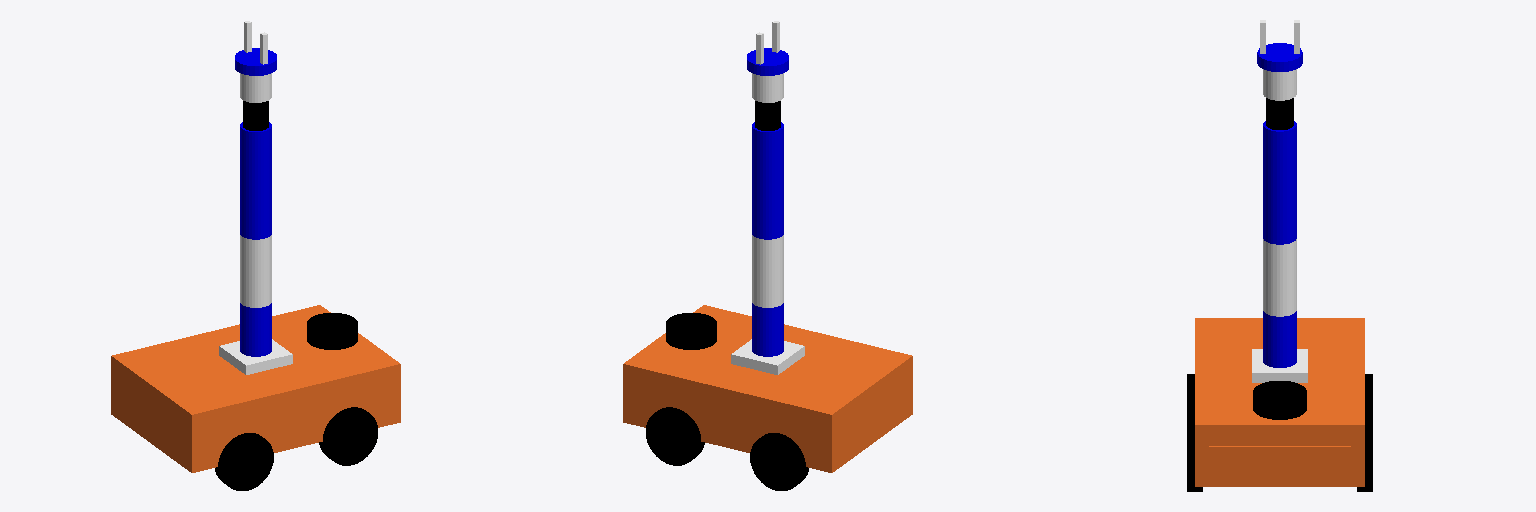
--- What the picture shows (computed from the rendered views, not written in the file) ---
3 views of the same robot in one strip: view 1: azimuth 30°, elevation 25°; view 2: azimuth 150°, elevation 25°; view 3: azimuth 270°, elevation 25° (orthographic).
Robot: dakebot — 19 links, 18 joints (6 revolute, 4 continuous, 1 prismatic, 7 fixed); root link base_footprint; default pose: all joints at 0.
Links seen in each view (by area): view 1: robot_base_link, link3, right_front_wheel, right_rear_wheel, link2, hokuyo, link1, base_link, link6, link5, link4; view 2: robot_base_link, link3, left_front_wheel, left_rear_wheel, link2, hokuyo, link1, base_link, link6, link5, link4; view 3: robot_base_link, link3, camera, link2, hokuyo, link1, base_link, link6, link5, link4, left_front_wheel, right_front_wheel.
Boxes of the visible links, x1,y1,x2,y2 form: robot_base_link: (111, 305, 400, 472); link3: (240, 122, 271, 239); right_front_wheel: (319, 407, 377, 465); right_rear_wheel: (215, 433, 273, 490); link2: (240, 235, 271, 307); hokuyo: (307, 313, 357, 349); link1: (240, 303, 271, 356); base_link: (219, 339, 292, 374); link6: (235, 48, 276, 75); link5: (240, 73, 271, 102); link4: (243, 101, 268, 130); robot_base_link: (623, 305, 912, 472); link3: (752, 122, 783, 239); left_front_wheel: (646, 407, 704, 465); left_rear_wheel: (750, 433, 808, 490); link2: (752, 235, 783, 307); hokuyo: (666, 313, 716, 349); link1: (752, 303, 783, 356); base_link: (731, 339, 804, 374); link6: (747, 48, 788, 75); link5: (752, 73, 783, 102); link4: (755, 101, 780, 130); robot_base_link: (1195, 318, 1364, 486); link3: (1263, 121, 1296, 244); camera: (1209, 446, 1350, 466); link2: (1263, 239, 1296, 316); hokuyo: (1253, 381, 1306, 419); link1: (1263, 311, 1296, 367); base_link: (1252, 349, 1307, 382); link6: (1257, 43, 1302, 71); link5: (1263, 69, 1296, 100); link4: (1266, 98, 1293, 129); left_front_wheel: (1357, 428, 1372, 491); right_front_wheel: (1187, 428, 1202, 491).
Bounding box of the posed robot: 0.453 × 0.328 × 0.857 m (x, y, z).
Geometry: primitives only (box / cylinder / sphere), no mesh files.

URDF robot description (dakebot):
<?xml version="1.0" ?>
<!-- =================================================================================== -->
<!-- |    This document was autogenerated by xacro from [local-path]/catkin_ws/src/robot_description/urdf/robot.urdf.xacro | -->
<!-- |    EDITING THIS FILE BY HAND IS NOT RECOMMENDED                                 | -->
<!-- =================================================================================== -->
<robot name="dakebot">
    <material name="black">
        <color rgba="0.0 0.0 0.0 1.0" />
    </material>
    <!--base_footprint_link-->
    <link name="base_footprint">
        <visual>
            <geometry>
                <sphere radius="0.001" />
            </geometry>
        </visual>
    </link>
    <!--robot_base_link-->
    <link name="robot_base_link">
        <visual>
            <geometry>
                <box size="0.448 0.3 0.12" />
            </geometry>
            <origin rpy="0 0 0" xyz="0 0 0" />
            <material name="yellow">
                <color rgba="1.0 0.5 0.2 1.0" />
            </material>
        </visual>
        <collision>
            <geometry>
                <box size="0.448 0.3 0.12" />
            </geometry>
            <origin rpy="0 0 0" xyz="0 0 0" />
        </collision>
        <inertial>
            <mass value="5" />
            <inertia ixx="0.08962666666666667" ixy="0" ixz="0" iyy="0.12112666666666667" iyz="0" izz="0.043500000000000004" />
            <origin xyz="0 0 0" rpy="0 0 0" />
        </inertial>
    </link>
    <gazebo reference="robot_base_link">
        <material>Gazebo/Yellow</material>
        <plugin name="gazebo_ros_control">
            <robotNamespace>/</robotNamespace>
        </plugin>
    </gazebo>
    <!--base_link joint-->
    <joint name="link2footprint" type="fixed">
        <parent link="base_footprint" />
        <child link="robot_base_link" />
        <origin xyz="0 0 0.11599999999999999" />
    </joint>
    <link name="left_front_wheel">
        <visual>
            <geometry>
                <cylinder length="0.028" radius="0.056" />
            </geometry>
            <origin rpy="1.5705 0.0 0.0" xyz="0.0 0.0 0.0" />
            <material name="black" />
        </visual>
        <collision>
            <geometry>
                <cylinder length="0.028" radius="0.056" />
            </geometry>
            <surface>
                <friction>
                    <fdir1>1 0 0</fdir1>
                    <kp>1000000.0</kp>
                    <!-- kp and kd for rubber -->
                    <kd>100.0</kd>
                    <mu>1</mu>
                    <mu2>1</mu2>
                    <slip1>0.5</slip1>
                    <slip2>0</slip2>
                </friction>
            </surface>
            <origin rpy="1.5705 0.0 0.0" xyz="0.0 0.0 0.0" />
        </collision>
        <inertial>
            <mass value="2" />
            <inertia ixx="0.001698666666666667" ixy="0" ixz="0" iyy="0.001698666666666667" iyz="0" izz="0.0031360000000000003" />
            <origin xyz="0 0 0" rpy="0 0 0" />
        </inertial>
    </link>
    <gazebo reference="left_front_wheel">
        <material>Gazebo/Red</material>
    </gazebo>
    <!--wheels_joint-->
    <joint name="left_front_wheel2robot_base_link" type="continuous">
        <parent link="robot_base_link" />
        <child link="left_front_wheel" />
        <origin xyz="0.112 0.15 -0.06" />
        <axis xyz="0 1 0" />
    </joint>
    <link name="right_front_wheel">
        <visual>
            <geometry>
                <cylinder length="0.028" radius="0.056" />
            </geometry>
            <origin rpy="1.5705 0.0 0.0" xyz="0.0 0.0 0.0" />
            <material name="black" />
        </visual>
        <collision>
            <geometry>
                <cylinder length="0.028" radius="0.056" />
            </geometry>
            <surface>
                <friction>
                    <fdir1>1 0 0</fdir1>
                    <kp>1000000.0</kp>
                    <!-- kp and kd for rubber -->
                    <kd>100.0</kd>
                    <mu>1</mu>
                    <mu2>1</mu2>
                    <slip1>0.5</slip1>
                    <slip2>0</slip2>
                </friction>
            </surface>
            <origin rpy="1.5705 0.0 0.0" xyz="0.0 0.0 0.0" />
        </collision>
        <inertial>
            <mass value="2" />
            <inertia ixx="0.001698666666666667" ixy="0" ixz="0" iyy="0.001698666666666667" iyz="0" izz="0.0031360000000000003" />
            <origin xyz="0 0 0" rpy="0 0 0" />
        </inertial>
    </link>
    <gazebo reference="right_front_wheel">
        <material>Gazebo/Red</material>
    </gazebo>
    <!--wheels_joint-->
    <joint name="right_front_wheel2robot_base_link" type="continuous">
        <parent link="robot_base_link" />
        <child link="right_front_wheel" />
        <origin xyz="0.112 -0.15 -0.06" />
        <axis xyz="0 1 0" />
    </joint>
    <link name="left_rear_wheel">
        <visual>
            <geometry>
                <cylinder length="0.028" radius="0.056" />
            </geometry>
            <origin rpy="1.5705 0.0 0.0" xyz="0.0 0.0 0.0" />
            <material name="black" />
        </visual>
        <collision>
            <geometry>
                <cylinder length="0.028" radius="0.056" />
            </geometry>
            <surface>
                <friction>
                    <fdir1>1 0 0</fdir1>
                    <kp>1000000.0</kp>
                    <!-- kp and kd for rubber -->
                    <kd>100.0</kd>
                    <mu>1</mu>
                    <mu2>1</mu2>
                    <slip1>0.5</slip1>
                    <slip2>0</slip2>
                </friction>
            </surface>
            <origin rpy="1.5705 0.0 0.0" xyz="0.0 0.0 0.0" />
        </collision>
        <inertial>
            <mass value="2" />
            <inertia ixx="0.001698666666666667" ixy="0" ixz="0" iyy="0.001698666666666667" iyz="0" izz="0.0031360000000000003" />
            <origin xyz="0 0 0" rpy="0 0 0" />
        </inertial>
    </link>
    <gazebo reference="left_rear_wheel">
        <material>Gazebo/Red</material>
    </gazebo>
    <!--wheels_joint-->
    <joint name="left_rear_wheel2robot_base_link" type="continuous">
        <parent link="robot_base_link" />
        <child link="left_rear_wheel" />
        <origin xyz="-0.112 0.15 -0.06" />
        <axis xyz="0 1 0" />
    </joint>
    <link name="right_rear_wheel">
        <visual>
            <geometry>
                <cylinder length="0.028" radius="0.056" />
            </geometry>
            <origin rpy="1.5705 0.0 0.0" xyz="0.0 0.0 0.0" />
            <material name="black" />
        </visual>
        <collision>
            <geometry>
                <cylinder length="0.028" radius="0.056" />
            </geometry>
            <surface>
                <friction>
                    <fdir1>1 0 0</fdir1>
                    <kp>1000000.0</kp>
                    <!-- kp and kd for rubber -->
                    <kd>100.0</kd>
                    <mu>1</mu>
                    <mu2>1</mu2>
                    <slip1>0.5</slip1>
                    <slip2>0</slip2>
                </friction>
            </surface>
            <origin rpy="1.5705 0.0 0.0" xyz="0.0 0.0 0.0" />
        </collision>
        <inertial>
            <mass value="2" />
            <inertia ixx="0.001698666666666667" ixy="0" ixz="0" iyy="0.001698666666666667" iyz="0" izz="0.0031360000000000003" />
            <origin xyz="0 0 0" rpy="0 0 0" />
        </inertial>
    </link>
    <gazebo reference="right_rear_wheel">
        <material>Gazebo/Red</material>
    </gazebo>
    <!--wheels_joint-->
    <joint name="right_rear_wheel2robot_base_link" type="continuous">
        <parent link="robot_base_link" />
        <child link="right_rear_wheel" />
        <origin xyz="-0.112 -0.15 -0.06" />
        <axis xyz="0 1 0" />
    </joint>
    <link name="camera">
        <visual>
            <origin rpy="0.0 0.0 0.0" xyz="0.0 0.0 0.0" />
            <geometry>
                <box size="0.01 0.25 0.04" />
            </geometry>
            <material name="yellow">
                <color rgba="1.0 0.5 0.2 1.0" />
            </material>
        </visual>
        <collision>
            <origin rpy="0.0 0.0 0.0" xyz="0.0 0.0 0.0" />
            <geometry>
                <box size="0.01 0.25 0.04" />
            </geometry>
        </collision>
        <inertial>
            <mass value="1.0" />
            <inertia ixx="0.00014166666666666668" ixy="0" ixz="0" iyy="0.005216666666666667" iyz="0" izz="0.005341666666666667" />
            <origin xyz="0 0 0" rpy="0 0 0" />
        </inertial>
    </link>
    <joint name="camera2base" type="fixed">
        <origin rpy="0.0 0.0 0.0" xyz="0.224 0.0 0.0" />
        <parent link="robot_base_link" />
        <child link="camera" />
        <axis xyz="0.0 0.0 0.0" />
        <limit effort="0.0" lower="0.0" upper="0.0" velocity="0.0" />
    </joint>
    <link name="hokuyo">
        <visual>
            <origin rpy="0.0 0.0 0.0" xyz="0.0 0.0 0.0" />
            <geometry>
                <cylinder length="0.032" radius="0.048" />
            </geometry>
            <material name="black" />
        </visual>
        <collision>
            <origin rpy="0.0 0.0 0.0" xyz="0.0 0.0 0.0" />
            <geometry>
                <cylinder length="0.032" radius="0.048" />
            </geometry>
        </collision>
        <inertial>
            <mass value="1.0" />
            <inertia ixx="0.0006613333333333333" ixy="0" ixz="0" iyy="0.0006613333333333333" iyz="0" izz="0.001152" />
            <origin xyz="0 0 0" rpy="0 0 0" />
        </inertial>
    </link>
    <joint name="hokuyo2base" type="fixed">
        <origin rpy="0.0 0.0 0.0" xyz="0.164 0.0 0.08" />
        <parent link="robot_base_link" />
        <child link="hokuyo" />
        <axis xyz="0.0 0.0 0.0" />
        <limit effort="0.0" lower="0.0" upper="0.0" velocity="0.0" />
    </joint>
    <!-- gazebo四轮差速插件 -->
    <gazebo>
        <plugin filename="libgazebo_ros_skid_steer_drive.so" name="skid_steer_drive_controller">
            <updateRate>50</updateRate>
            <robotNamespace>/</robotNamespace>
            <publishOdomTF>true</publishOdomTF>
            <publishWheelTF>false</publishWheelTF>
            <publishTf>1</publishTf>
            <publishWheelJointState>false</publishWheelJointState>
            <leftFrontJoint>left_front_wheel2robot_base_link</leftFrontJoint>
            <rightFrontJoint>right_front_wheel2robot_base_link</rightFrontJoint>
            <leftRearJoint>left_rear_wheel2robot_base_link</leftRearJoint>
            <rightRearJoint>right_rear_wheel2robot_base_link</rightRearJoint>
            <wheelSeparation>0.3</wheelSeparation>
            <wheelDiameter>0.112</wheelDiameter>
            <robotBaseFrame>base_footprint</robotBaseFrame>
            <torque>700</torque>
            <commandTopic>cmd_vel</commandTopic>
            <broadcastTF>true</broadcastTF>
            <odometryFrame>odom</odometryFrame>
            <odometryTopic>odom</odometryTopic>
            <covariance_x>0.000100</covariance_x>
            <covariance_y>0.000100</covariance_y>
            <covariance_yaw>0.010000</covariance_yaw>
        </plugin>
    </gazebo>
    <!-- <xacro:include filename="robot_camera.urdf.xacro"/>
  <xacro:include filename="robot_kinetic.urdf.xacro"/>
  <xacro:include filename="robot_laser.urdf.xacro"/> -->
    <!-- Defining the colors used in this robot -->
    <material name="Black">
        <color rgba="0 0 0 1" />
    </material>
    <material name="White">
        <color rgba="1 1 1 1" />
    </material>
    <material name="Blue">
        <color rgba="0 0 1 1" />
    </material>
    <material name="Red">
        <color rgba="1 0 0 1" />
    </material>
    <!-- ///////////////////////////////////////   bottom_joint   ////////////////////////////////////////// -->
    <joint name="bottom_joint" type="fixed">
        <origin rpy="0 0 0" xyz="0 0 0" />
        <parent link="base_link" />
        <child link="bottom_link" />
    </joint>
    <link name="bottom_link">
        <visual>
            <origin rpy="0 0 0" xyz=" 0 0 -0.02" />
            <geometry>
                <box size="0.1 0.1 0.01" />
            </geometry>
            <material name="Black" />
        </visual>
        <collision>
            <origin rpy="0 0 0" xyz=" 0 0 -0.02" />
            <geometry>
                <box size="0.1 0.1 0.01" />
            </geometry>
        </collision>
        <inertial>
            <mass value="0.1" />
            <inertia ixx="1.0" ixy="0.0" ixz="0.0" iyy="0.5" iyz="0.0" izz="1.0" />
            <origin xyz="0 0 0" rpy="0 0 0" />
        </inertial>
    </link>
    <!-- /////////////////////////////////////   BASE LINK    ////////////////////////////////////////////// -->
    <link name="base_link">
        <visual>
            <origin rpy="0 0 0" xyz="0 0 0" />
            <geometry>
                <box size="0.1 0.1 0.04" />
            </geometry>
            <material name="White" />
        </visual>
        <collision>
            <origin rpy="0 0 0" xyz="0 0 0" />
            <geometry>
                <box size="0.1 0.1 0.04" />
            </geometry>
        </collision>
        <!--<xacro:inertial_matrix mass="1"/>-->
        <inertial>
            <mass value="0.1" />
            <origin xyz="0 0 0" rpy="0 0 0" />
            <inertia ixx="0.03" iyy="0.03" izz="0.03" ixy="0.0" ixz="0.0" iyz="0.0" />
        </inertial>
    </link>
    <joint name="joint1" type="revolute">
        <parent link="base_link" />
        <child link="link1" />
        <origin rpy="0 1.570795 0" xyz="0 0 0.02" />
        <axis xyz="-1 0 0" />
        <limit effort="300" lower="-2.96" upper="2.96" velocity="1" />
        <dynamics damping="50" friction="1" />
    </joint>
    <!-- /////////////////////////////////////   LINK1  ////////////////////////////////////////////// -->
    <link name="link1">
        <visual>
            <origin rpy="0 1.570795 0" xyz="-0.05 0 0" />
            <geometry>
                <cylinder length="0.1" radius="0.03" />
            </geometry>
            <material name="Blue" />
        </visual>
        <collision>
            <origin rpy="0 1.570795 0" xyz="-0.05 0 0" />
            <geometry>
                <cylinder length="0.1" radius="0.03" />
            </geometry>
        </collision>
        <inertial>
            <mass value="0.1" />
            <inertia ixx="1.0" ixy="0.0" ixz="0.0" iyy="0.5" iyz="0.0" izz="1.0" />
            <origin xyz="0 0 0" rpy="0 0 0" />
        </inertial>
    </link>
    <joint name="joint2" type="revolute">
        <parent link="link1" />
        <child link="link2" />
        <origin rpy="-1.570795 0 1.570795" xyz="-0.1 0 0.0" />
        <axis xyz="1 0 0" />
        <limit effort="300" lower="-2.35" upper="2.35" velocity="1" />
        <dynamics damping="50" friction="1" />
    </joint>
    <!-- ///////////////////////////////////////   LINK2  ////////////////////////////////////////////// -->
    <link name="link2">
        <visual>
            <origin rpy="0 0 0" xyz="0 0 0.07" />
            <geometry>
                <cylinder length="0.14" radius="0.03" />
            </geometry>
            <material name="White" />
        </visual>
        <collision>
            <origin rpy="0 0 0" xyz="0 0 0.07" />
            <geometry>
                <cylinder length="0.14" radius="0.03" />
            </geometry>
        </collision>
        <inertial>
            <mass value="0.1" />
            <inertia ixx="1.0" ixy="0.0" ixz="0.0" iyy="0.5" iyz="0.0" izz="1.0" />
            <origin xyz="0 0 0" rpy="0 0 0" />
        </inertial>
    </link>
    <joint name="joint3" type="revolute">
        <parent link="link2" />
        <child link="link3" />
        <origin rpy="0 3.14159 0" xyz="0 0 0.14" />
        <axis xyz="-1 0 0" />
        <limit effort="300" lower="-2.62" upper="2.62" velocity="1" />
        <dynamics damping="50" friction="1" />
    </joint>
    <!-- /////////////////////////////////   LINK3  ///////////////////////////////////////////////////// -->
    <link name="link3">
        <visual>
            <origin rpy="0 0 0" xyz="0 0 -0.11" />
            <geometry>
                <cylinder length="0.22" radius="0.03" />
            </geometry>
            <material name="Blue" />
        </visual>
        <collision>
            <origin rpy="0 0 0" xyz="0 0 -0.11" />
            <geometry>
                <cylinder length="0.22" radius="0.03" />
            </geometry>
        </collision>
        <inertial>
            <mass value="0.1" />
            <inertia ixx="1.0" ixy="0.0" ixz="0.0" iyy="0.5" iyz="0.0" izz="1.0" />
            <origin xyz="0 0 0" rpy="0 0 0" />
        </inertial>
    </link>
    <joint name="joint4" type="revolute">
        <parent link="link3" />
        <child link="link4" />
        <origin rpy="0 1.570795 3.14159" xyz="0.0 0.0 -0.22" />
        <axis xyz="1 0 0" />
        <limit effort="300" lower="-2.62" upper="2.62" velocity="1" />
        <dynamics damping="50" friction="1" />
    </joint>
    <!-- ///////////////////////////////////   LINK4  //////////////////////////////////////////////// -->
    <link name="link4">
        <visual>
            <origin rpy="0 1.570795 0" xyz="0.03 0 0" />
            <geometry>
                <cylinder length="0.06" radius="0.025" />
            </geometry>
            <material name="Black" />
        </visual>
        <collision>
            <origin rpy="0 1.570795 0" xyz="0.03 0 0" />
            <geometry>
                <cylinder length="0.06" radius="0.025" />
            </geometry>
        </collision>
        <inertial>
            <mass value="0.1" />
            <inertia ixx="1.0" ixy="0.0" ixz="0.0" iyy="0.5" iyz="0.0" izz="1.0" />
            <origin xyz="0 0 0" rpy="0 0 0" />
        </inertial>
    </link>
    <joint name="joint5" type="revolute">
        <parent link="link4" />
        <child link="link5" />
        <origin rpy="0 1.570795 0" xyz="0.06 0.0 0.0" />
        <axis xyz="1 0 0" />
        <limit effort="300" lower="-2.62" upper="2.62" velocity="1" />
        <dynamics damping="50" friction="1" />
    </joint>
    <!-- //////////////////////////////////   LINK5  ///////////////////////////////////////////////// -->
    <link name="link5">
        <visual>
            <origin rpy="0 0 0" xyz="0 0 0.03" />
            <geometry>
                <cylinder length="0.06" radius="0.03" />
            </geometry>
            <material name="White" />
        </visual>
        <collision>
            <origin rpy="0 0 0" xyz="0 0 0.03 " />
            <geometry>
                <cylinder length="0.06" radius="0.03" />
            </geometry>
        </collision>
        <inertial>
            <mass value="0.1" />
            <inertia ixx="1.0" ixy="0.0" ixz="0.0" iyy="0.5" iyz="0.0" izz="1.0" />
            <origin xyz="0 0 0" rpy="0 0 0" />
        </inertial>
    </link>
    <joint name="joint6" type="revolute">
        <parent link="link5" />
        <child link="link6" />
        <origin rpy="4.712384999999999 -1.570795 0" xyz="0 0 0.06" />
        <axis xyz="1 0 0" />
        <limit effort="300" lower="-6.28" upper="6.28" velocity="1" />
        <dynamics damping="50" friction="1" />
    </joint>
    <!-- ////////////////////////////////   LINK6  ///////////////////////////////////////////////// -->
    <link name="link6">
        <visual>
            <origin rpy="0 1.570795 0" xyz="0.01 0 0 " />
            <geometry>
                <cylinder length="0.02" radius="0.04" />
            </geometry>
            <material name="Blue" />
        </visual>
        <collision>
            <origin rpy="0 1.570795 0" xyz="0.01 0 0" />
            <geometry>
                <cylinder length="0.02" radius="0.04" />
            </geometry>
        </collision>
        <inertial>
            <mass value="0.1" />
            <inertia ixx="1.0" ixy="0.0" ixz="0.0" iyy="0.5" iyz="0.0" izz="1.0" />
            <origin xyz="0 0 0" rpy="0 0 0" />
        </inertial>
    </link>
    <joint name="finger_joint1" type="prismatic">
        <parent link="link6" />
        <child link="gripper_finger_link1" />
        <origin xyz="0.0 0 0" />
        <axis xyz="0 1 0" />
        <limit effort="100" lower="0" upper="0.06" velocity="1.0" />
        <dynamics damping="50" friction="1" />
    </joint>
    <!-- //////////////////////////////////////   gripper   ////////////////////////////////////////////// -->
    <!-- LEFT GRIPPER AFT LINK -->
    <link name="gripper_finger_link1">
        <visual>
            <origin xyz="0.04 -0.03 0" />
            <geometry>
                <box size="0.08 0.01 0.01" />
            </geometry>
            <material name="White" />
        </visual>
        <collision>
            <origin xyz="0.04 -0.03 0" />
            <geometry>
                <box size="0.08 0.01 0.01" />
            </geometry>
        </collision>
        <inertial>
            <mass value="0.05" />
            <inertia ixx="2.7083333333333335e-05" ixy="0" ixz="0" iyy="2.7083333333333335e-05" iyz="0" izz="8.333333333333334e-07" />
            <origin xyz="0 0 0" rpy="0 0 0" />
        </inertial>
    </link>
    <joint name="finger_joint2" type="fixed">
        <parent link="link6" />
        <child link="gripper_finger_link2" />
        <origin xyz="0.0 0 0" />
    </joint>
    <!-- RIGHT GRIPPER AFT LINK -->
    <link name="gripper_finger_link2">
        <visual>
            <origin xyz="0.04 0.03 0" />
            <geometry>
                <box size="0.08 0.01 0.01" />
            </geometry>
            <material name="White" />
        </visual>
        <collision>
            <origin xyz="0.04 0.03 0" />
            <geometry>
                <box size="0.08 0.01 0.01" />
            </geometry>
        </collision>
        <inertial>
            <mass value="0.05" />
            <inertia ixx="2.7083333333333335e-05" ixy="0" ixz="0" iyy="2.7083333333333335e-05" iyz="0" izz="8.333333333333334e-07" />
            <origin xyz="0 0 0" rpy="0 0 0" />
        </inertial>
    </link>
    <!-- Grasping frame -->
    <link name="grasping_frame" />
    <joint name="grasping_frame_joint" type="fixed">
        <parent link="link6" />
        <child link="grasping_frame" />
        <origin rpy="0 0 0" xyz="0.08 0 0" />
    </joint>
    <!-- /////////////////////////////////   Gazebo   ////////////////////////////////////// -->
    <gazebo reference="base_link">
        <material>Gazebo/White</material>
    </gazebo>
    <gazebo reference="link1">
        <material>Gazebo/Blue</material>
    </gazebo>
    <gazebo reference="link2">
        <material>Gazebo/White</material>
    </gazebo>
    <gazebo reference="link3">
        <material>Gazebo/Blue</material>
    </gazebo>
    <gazebo reference="link4">
        <material>Gazebo/Black</material>
    </gazebo>
    <gazebo reference="link5">
        <material>Gazebo/White</material>
    </gazebo>
    <gazebo reference="link6">
        <material>Gazebo/Blue</material>
    </gazebo>
    <gazebo reference="gripper_finger_link1">
        <material>Gazebo/White</material>
    </gazebo>
    <gazebo reference="gripper_finger_link2">
        <material>Gazebo/White</material>
    </gazebo>
    <transmission name="tran1">
        <type>transmission_interface/SimpleTransmission</type>
        <joint name="joint1">
            <hardwareInterface>hardware_interface/PositionJointInterface</hardwareInterface>
        </joint>
        <actuator name="motor1">
            <hardwareInterface>hardware_interface/PositionJointInterface</hardwareInterface>
            <mechanicalReduction>1</mechanicalReduction>
        </actuator>
    </transmission>
    <transmission name="tran1">
        <type>transmission_interface/SimpleTransmission</type>
        <joint name="joint2">
            <hardwareInterface>hardware_interface/PositionJointInterface</hardwareInterface>
        </joint>
        <actuator name="motor1">
            <hardwareInterface>hardware_interface/PositionJointInterface</hardwareInterface>
            <mechanicalReduction>1</mechanicalReduction>
        </actuator>
    </transmission>
    <transmission name="tran1">
        <type>transmission_interface/SimpleTransmission</type>
        <joint name="joint3">
            <hardwareInterface>hardware_interface/PositionJointInterface</hardwareInterface>
        </joint>
        <actuator name="motor1">
            <hardwareInterface>hardware_interface/PositionJointInterface</hardwareInterface>
            <mechanicalReduction>1</mechanicalReduction>
        </actuator>
    </transmission>
    <transmission name="tran1">
        <type>transmission_interface/SimpleTransmission</type>
        <joint name="joint4">
            <hardwareInterface>hardware_interface/PositionJointInterface</hardwareInterface>
        </joint>
        <actuator name="motor1">
            <hardwareInterface>hardware_interface/PositionJointInterface</hardwareInterface>
            <mechanicalReduction>1</mechanicalReduction>
        </actuator>
    </transmission>
    <transmission name="tran1">
        <type>transmission_interface/SimpleTransmission</type>
        <joint name="joint5">
            <hardwareInterface>hardware_interface/PositionJointInterface</hardwareInterface>
        </joint>
        <actuator name="motor1">
            <hardwareInterface>hardware_interface/PositionJointInterface</hardwareInterface>
            <mechanicalReduction>1</mechanicalReduction>
        </actuator>
    </transmission>
    <transmission name="tran1">
        <type>transmission_interface/SimpleTransmission</type>
        <joint name="joint6">
            <hardwareInterface>hardware_interface/PositionJointInterface</hardwareInterface>
        </joint>
        <actuator name="motor1">
            <hardwareInterface>hardware_interface/PositionJointInterface</hardwareInterface>
            <mechanicalReduction>1</mechanicalReduction>
        </actuator>
    </transmission>
    <transmission name="tran1">
        <type>transmission_interface/SimpleTransmission</type>
        <joint name="finger_joint1">
            <hardwareInterface>hardware_interface/PositionJointInterface</hardwareInterface>
        </joint>
        <actuator name="motor1">
            <hardwareInterface>hardware_interface/PositionJointInterface</hardwareInterface>
            <mechanicalReduction>1</mechanicalReduction>
        </actuator>
    </transmission>
    <!-- ros_control plugin -->
    <gazebo>
        <plugin filename="libgazebo_ros_control.so" name="gazebo_ros_control">
            <robotNamespace>/arm</robotNamespace>
        </plugin>
    </gazebo>
    <joint name="arm2base" type="fixed">
        <origin rpy="0.0 0.0 0.0" xyz="0.0 0.0 0.06" />
        <parent link="robot_base_link" />
        <child link="base_link" />
        <axis xyz="0.0 0.0 0.0" />
        <limit effort="0.0" lower="0.0" upper="0.0" velocity="0.0" />
    </joint>
    <gazebo reference="camera">
        <material>Gazebo/Grey</material>
        <sensor name="camera1" type="camera">
            <update_rate>30.0</update_rate>
            <camera name="head">
                <horizontal_fov>1.3962634</horizontal_fov>
                <image>
                    <width>800</width>
                    <height>800</height>
                    <format>R8G8B8</format>
                </image>
                <clip>
                    <near>0.02</near>
                    <far>300</far>
                </clip>
            </camera>
            <plugin filename="libgazebo_ros_camera.so" name="camera_controller">
                <alwaysOn>true</alwaysOn>
                <updateRate>0.0</updateRate>
                <cameraName>skid_steer_bot/camera1</cameraName>
                <imageTopicName>image_raw</imageTopicName>
                <cameraInfoTopicName>camera_info</cameraInfoTopicName>
                <frameName>camera</frameName>
                <hackBaseline>0.07</hackBaseline>
                <distortionK1>0.0</distortionK1>
                <distortionK2>0.0</distortionK2>
                <distortionK3>0.0</distortionK3>
                <distortionT1>0.0</distortionT1>
                <distortionT2>0.0</distortionT2>
            </plugin>
        </sensor>
    </gazebo>
    <gazebo reference="hokuyo">
        <sensor name="head_hokuyo_sensor" type="ray">
            <pose>0 0 0 0 0 0</pose>
            <visualize>false</visualize>
            <update_rate>40</update_rate>
            <ray>
                <scan>
                    <horizontal>
                        <samples>720</samples>
                        <resolution>1</resolution>
                        <min_angle>-1.570796</min_angle>
                        <max_angle>1.570796</max_angle>
                    </horizontal>
                </scan>
                <range>
                    <min>0.10</min>
                    <max>30.0</max>
                    <resolution>0.01</resolution>
                </range>
                <noise>
                    <type>gaussian</type>
                    <!-- Noise parameters based on published spec for Hokuyo laser
               achieving "+-30mm" accuracy at range < 10m.  A mean of 0.0m and
               stddev of 0.01m will put 99.7% of samples within 0.03m of the true
               reading. -->
                    <mean>0.0</mean>
                    <stddev>0.01</stddev>
                </noise>
            </ray>
            <plugin filename="libgazebo_ros_laser.so" name="gazebo_ros_head_hokuyo_controller">
                <topicName>/skid_steer_bot/laser/scan</topicName>
                <frameName>hokuyo</frameName>
            </plugin>
        </sensor>
    </gazebo>
    <transmission name="trans_left_front_wheel2robot_base_link">
        <type>transmission_interface/SimpleTransmission</type>
        <joint name="left_front_wheel2robot_base_link">
            <hardwareInterface>hardware_interface/EffortJointInterface</hardwareInterface>
        </joint>
        <actuator name="left_front_wheel2robot_base_link_motor">
            <hardwareInterface>hardware_interface/EffortJointInterface</hardwareInterface>
            <mechanicalReduction>1</mechanicalReduction>
        </actuator>
    </transmission>
    <transmission name="trans_right_front_wheel2robot_base_link">
        <type>transmission_interface/SimpleTransmission</type>
        <joint name="right_front_wheel2robot_base_link">
            <hardwareInterface>hardware_interface/EffortJointInterface</hardwareInterface>
        </joint>
        <actuator name="right_front_wheel2robot_base_link_motor">
            <hardwareInterface>hardware_interface/EffortJointInterface</hardwareInterface>
            <mechanicalReduction>1</mechanicalReduction>
        </actuator>
    </transmission>
    <transmission name="trans_left_rear_wheel2robot_base_link">
        <type>transmission_interface/SimpleTransmission</type>
        <joint name="left_rear_wheel2robot_base_link">
            <hardwareInterface>hardware_interface/EffortJointInterface</hardwareInterface>
        </joint>
        <actuator name="left_rear_wheel2robot_base_link_motor">
            <hardwareInterface>hardware_interface/EffortJointInterface</hardwareInterface>
            <mechanicalReduction>1</mechanicalReduction>
        </actuator>
    </transmission>
    <transmission name="trans_right_rear_wheel2robot_base_link">
        <type>transmission_interface/SimpleTransmission</type>
        <joint name="right_rear_wheel2robot_base_link">
            <hardwareInterface>hardware_interface/EffortJointInterface</hardwareInterface>
        </joint>
        <actuator name="right_rear_wheel2robot_base_link_motor">
            <hardwareInterface>hardware_interface/EffortJointInterface</hardwareInterface>
            <mechanicalReduction>1</mechanicalReduction>
        </actuator>
    </transmission>
</robot>
